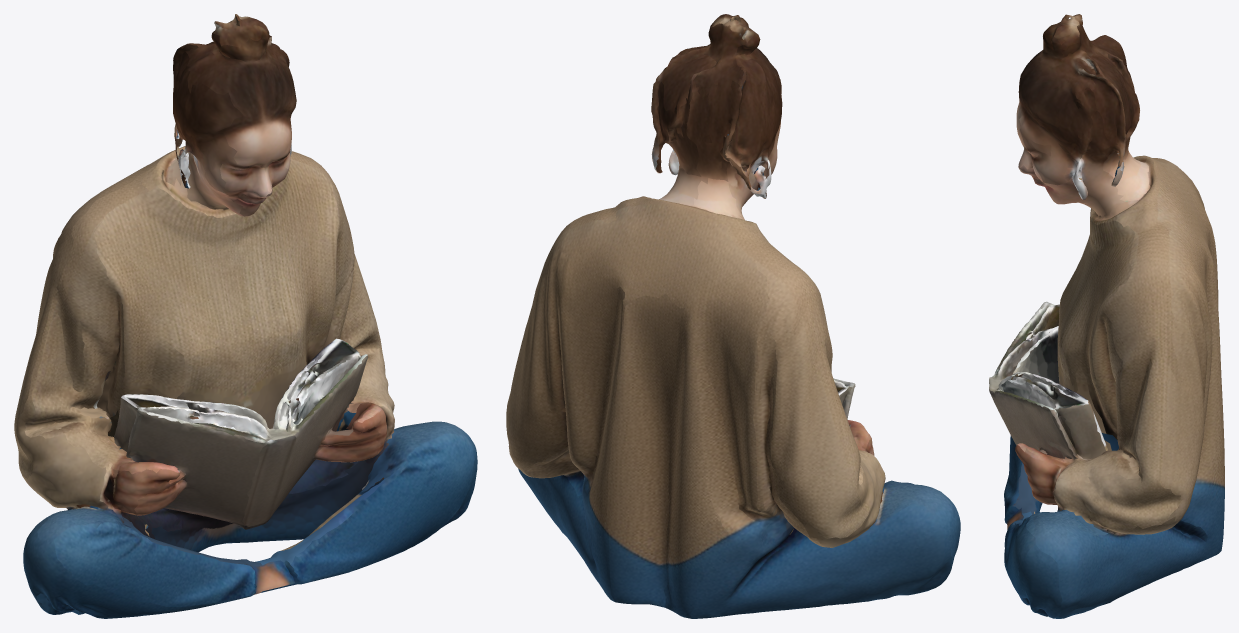
File: npc_reading.glb
The picture shows the model from 3 angles, left to right: view 1: azimuth 30°, elevation 25°; view 2: azimuth 150°, elevation 25°; view 3: azimuth 270°, elevation 25°; orthographic projection. The views are drawn at different scales.
Visible parts, largest first — view 1: tmpiexbm8x3.ply; view 2: tmpiexbm8x3.ply; view 3: tmpiexbm8x3.ply.
Part boxes in pixels (x1=…): tmpiexbm8x3.ply: x1=14, y1=14, x2=477, y2=618; tmpiexbm8x3.ply: x1=506, y1=14, x2=960, y2=618; tmpiexbm8x3.ply: x1=989, y1=14, x2=1224, y2=618.
Bounding box in the file's own units: 0.8309 × 0.9868 × 0.408.
1 material, 1 textured.
